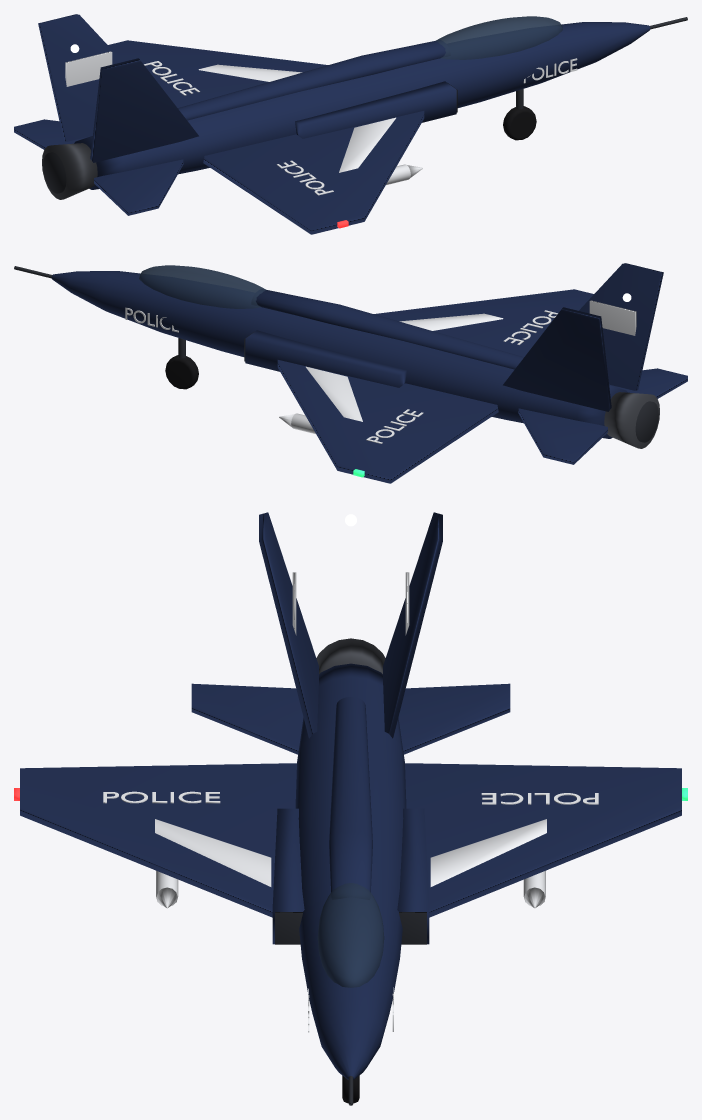
Rendered from jet_police.glb.
The picture shows the model from 3 angles, top to bottom: view 1: azimuth 30°, elevation 25°; view 2: azimuth 150°, elevation 25°; view 3: azimuth 270°, elevation 25°; orthographic projection. The views are drawn at different scales.
Parts seen in each view (by area): view 1: body, gear; view 2: body, gear; view 3: body.
Part boxes in pixels (bbox=[...]): body: bbox=[14, 14, 687, 234]; gear: bbox=[503, 89, 536, 140]; body: bbox=[14, 263, 687, 483]; gear: bbox=[165, 338, 198, 389]; body: bbox=[14, 512, 687, 1105].
Bounding box in the file's own units: 83.3 × 25.5 × 55.
